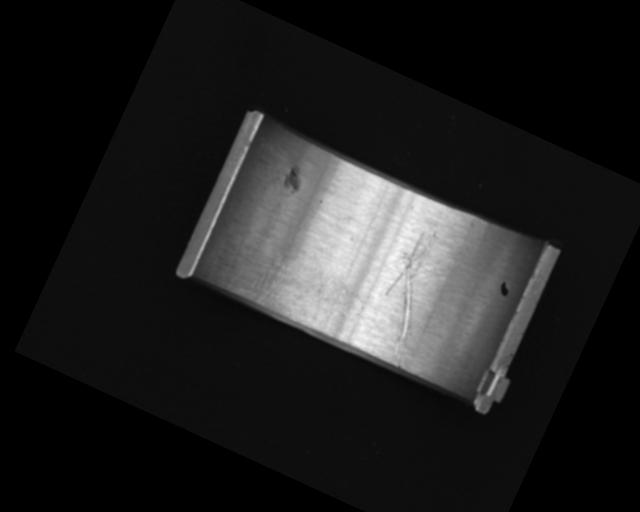blot: (495, 278, 514, 298)
bruise: (279, 164, 307, 195)
nick: (357, 222, 459, 369)
scratch: (231, 226, 355, 335)
